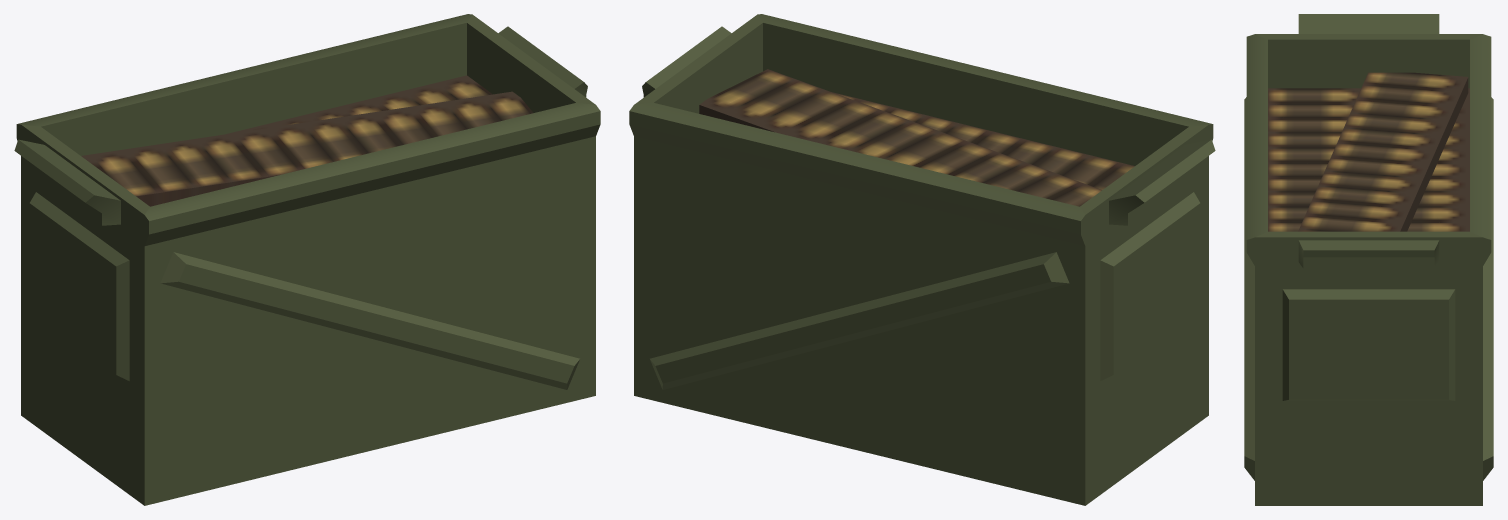
Rendered from SM_Prop_AmmoBox_03.glb.
The picture shows the model from 3 angles, left to right: view 1: azimuth 30°, elevation 25°; view 2: azimuth 150°, elevation 25°; view 3: azimuth 270°, elevation 25°; orthographic projection. The views are drawn at different scales.
Parts seen in each view (by area): view 1: SM_Prop_AmmoBox_03; view 2: SM_Prop_AmmoBox_03; view 3: SM_Prop_AmmoBox_03.
Boxes of the visible parts, left/top/right/bottom form: SM_Prop_AmmoBox_03: left=14, top=14, right=600, bottom=505; SM_Prop_AmmoBox_03: left=629, top=14, right=1215, bottom=505; SM_Prop_AmmoBox_03: left=1244, top=14, right=1493, bottom=505.
Size of the model in its own units: 0.5238 by 0.2985 by 0.244.
Materials: 1 (1 with a texture image).
